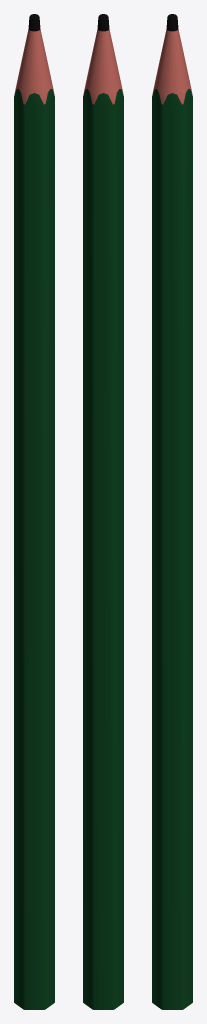
Rendered from Crayon.FBX.
3 views of the same model, side by side, from view 1: azimuth 90°, elevation 25°; view 2: azimuth 150°, elevation 25°; view 3: azimuth 270°, elevation 25° (orthographic).
Parts seen in each view (by area): view 1: CRAYON_01; view 2: CRAYON_01; view 3: CRAYON_01.
Boxes of the visible parts, bbox=[...] form: CRAYON_01: bbox=[14, 14, 54, 1009]; CRAYON_01: bbox=[83, 14, 123, 1009]; CRAYON_01: bbox=[152, 14, 192, 1009].
Bounding box in the file's own units: 0.6171 × 18.49 × 0.6928.
